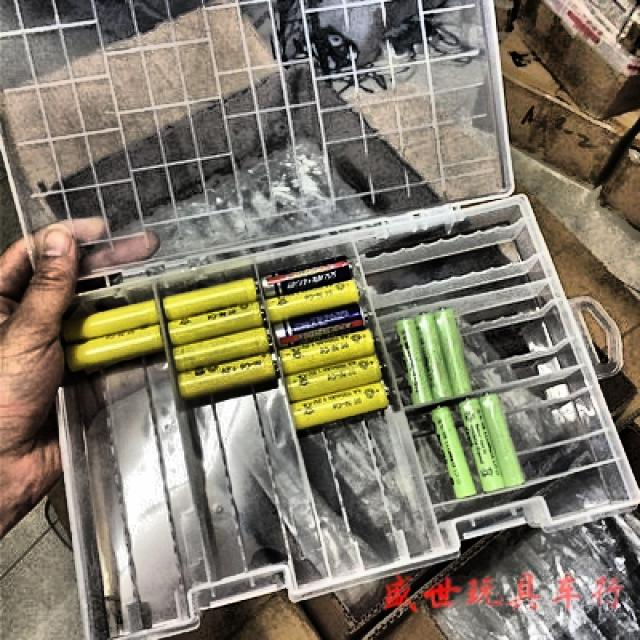Non-Valuable Waste - Batteries: (285, 355, 380, 402), (293, 383, 386, 431), (67, 327, 162, 372), (179, 354, 274, 399), (175, 326, 268, 371), (169, 301, 262, 346), (459, 399, 504, 492), (480, 394, 525, 486), (282, 329, 372, 374), (432, 406, 476, 498), (62, 302, 156, 342), (262, 255, 349, 297), (166, 278, 255, 319), (276, 305, 362, 347), (267, 282, 357, 322), (415, 314, 452, 399), (396, 319, 432, 404), (435, 309, 471, 394)
